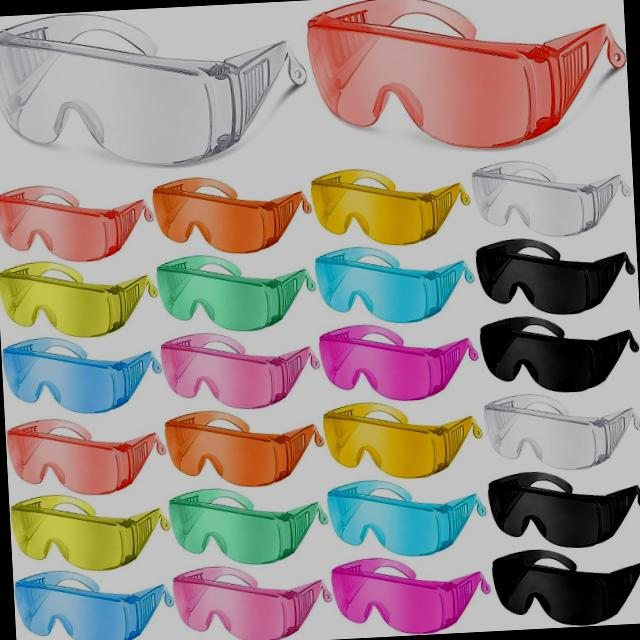goggles: (308, 0, 630, 142), (0, 20, 313, 160), (0, 154, 162, 270), (157, 158, 316, 246), (478, 314, 638, 398), (302, 331, 476, 407), (6, 256, 162, 340), (468, 161, 618, 244), (466, 401, 640, 471), (152, 338, 311, 414), (15, 488, 160, 570), (310, 246, 460, 324), (322, 476, 478, 549), (330, 550, 482, 624), (484, 464, 640, 535), (154, 258, 312, 327), (3, 334, 152, 406), (23, 563, 162, 640), (177, 484, 321, 556), (174, 566, 316, 638), (318, 162, 452, 238), (321, 411, 475, 476), (466, 260, 637, 318), (160, 419, 322, 476), (15, 427, 160, 490), (498, 550, 633, 612)
